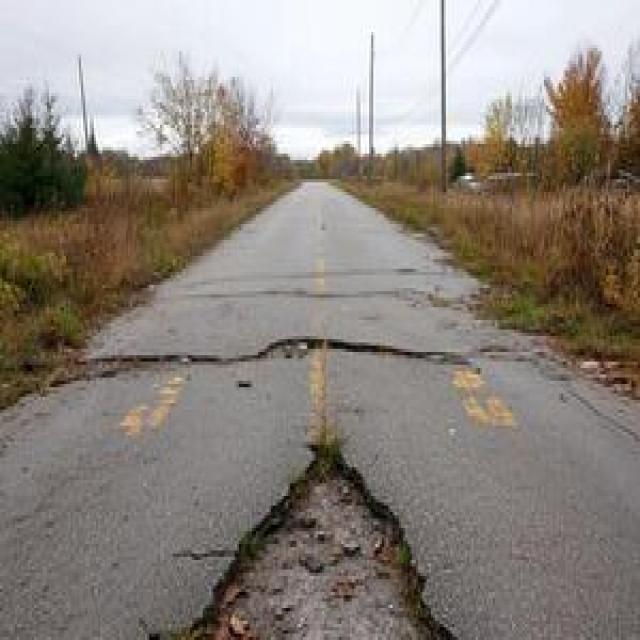road collapse: (0, 280, 615, 640)
